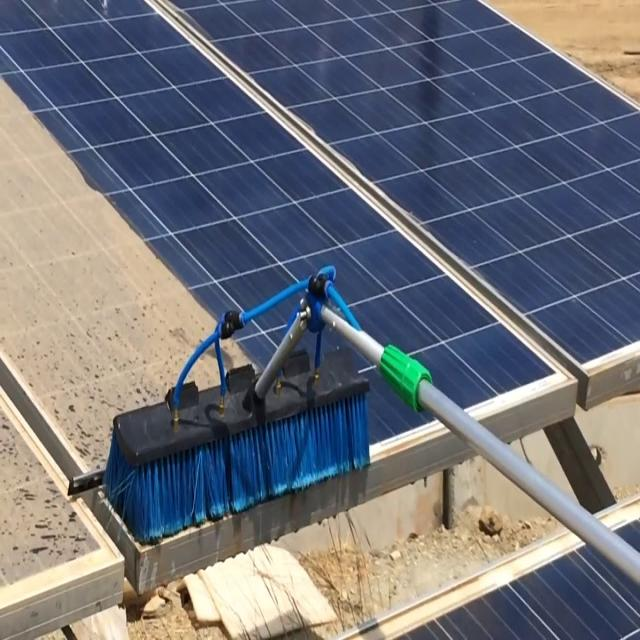clean-solar-panel: (0, 80, 362, 602)
dust-solar-panel: (1, 0, 640, 460)
